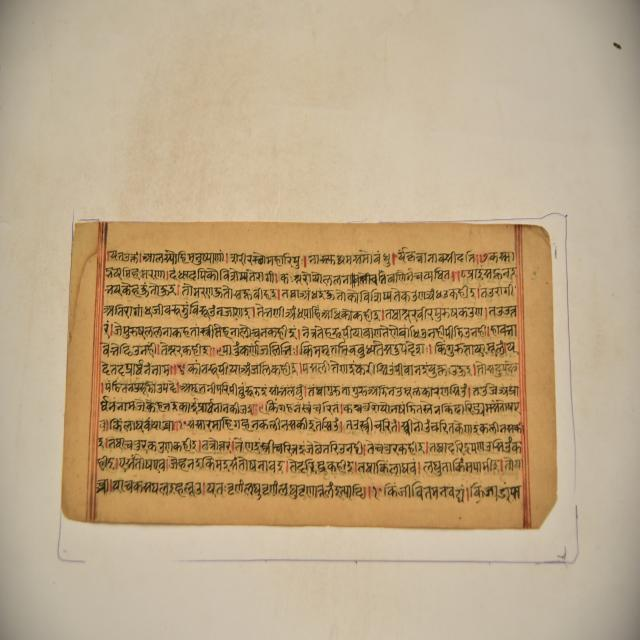text_paragraph: (63, 219, 553, 525)
